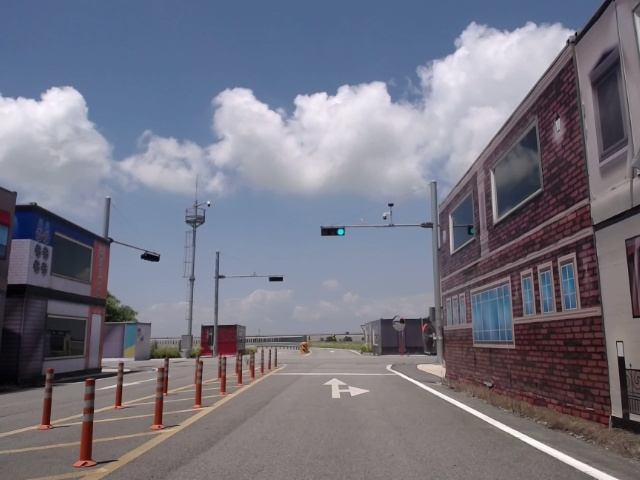green_3: (321, 227, 344, 235)
